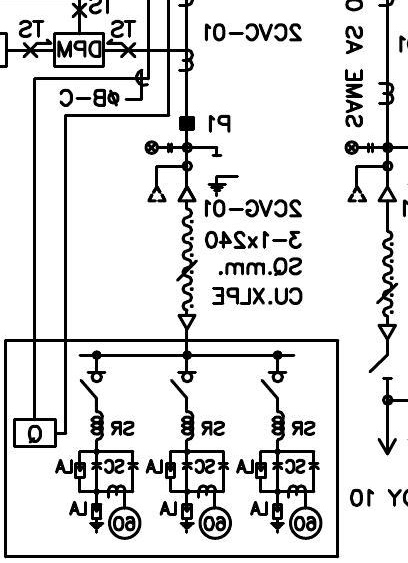22_cap_bank: (3, 338, 340, 559)
22_gs: (206, 153, 240, 198)
22_ll: (344, 139, 375, 156), (144, 139, 174, 155)
DPM: (52, 30, 106, 69)
Q: (12, 417, 58, 449)
terminator_single: (177, 313, 198, 331), (377, 323, 397, 341)
terminator_w_future: (346, 164, 398, 203), (146, 164, 198, 203)
